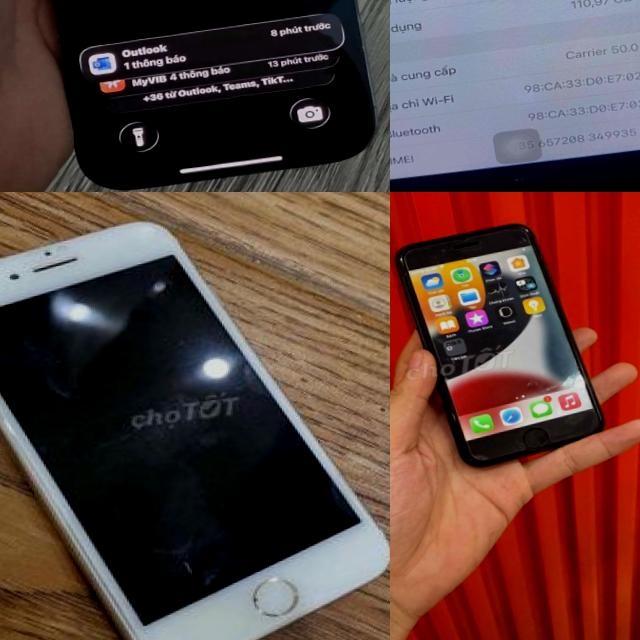gen_17: (7, 0, 390, 192)
gen_7_8: (0, 192, 390, 640), (390, 202, 616, 476), (390, 0, 640, 192), (242, 587, 270, 617)
scratch: (510, 221, 534, 245), (504, 167, 529, 184), (393, 250, 408, 272), (444, 405, 460, 423), (465, 451, 492, 461)
